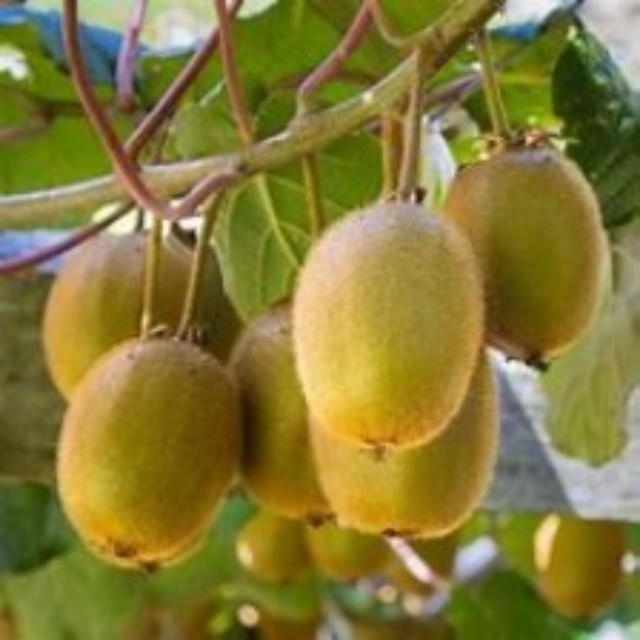kiwi: (44, 341, 257, 569), (293, 209, 486, 454), (447, 144, 618, 364), (305, 386, 517, 555), (42, 225, 226, 416), (210, 297, 348, 522)
